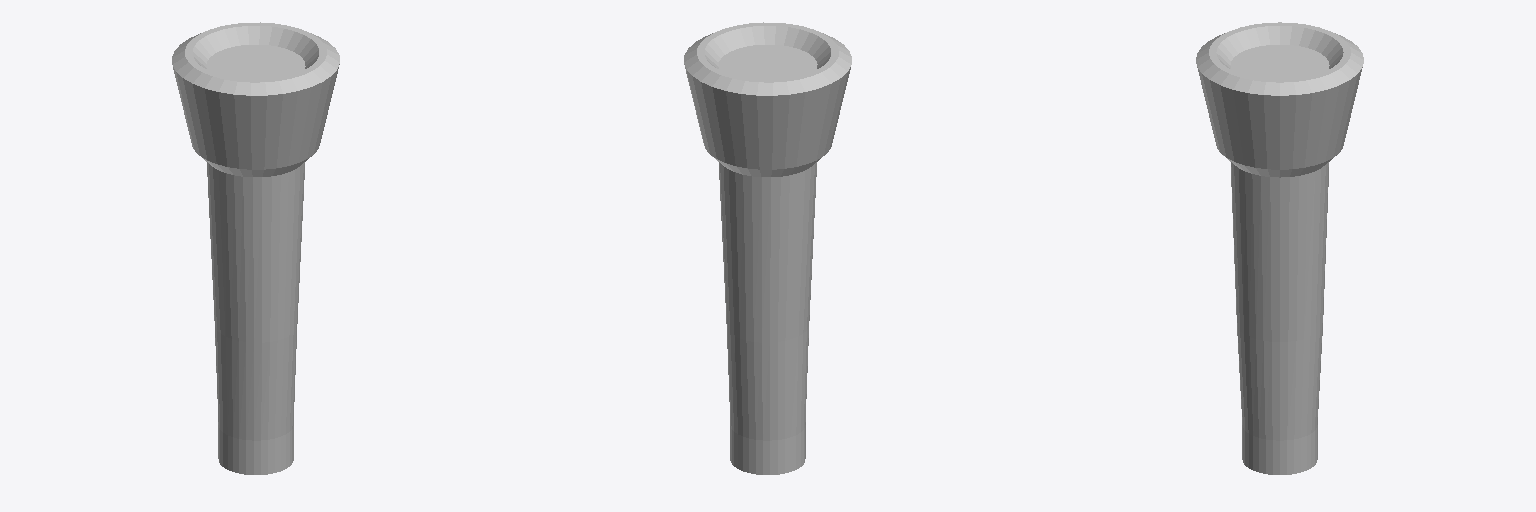
The model's file is flash_light.obj.
3 views of the same model, side by side, from view 1: azimuth 30°, elevation 25°; view 2: azimuth 150°, elevation 25°; view 3: azimuth 270°, elevation 25° (orthographic).
Parts seen in each view (by area): view 1: M_BrushedMetal; view 2: M_BrushedMetal; view 3: M_BrushedMetal.
Boxes of the visible parts, box(x1,y1,x2,y2) form: M_BrushedMetal: box(172, 22, 339, 474); M_BrushedMetal: box(684, 22, 851, 474); M_BrushedMetal: box(1196, 22, 1363, 474).
Size of the model in its own units: 0.2512 by 0.6683 by 0.2512.